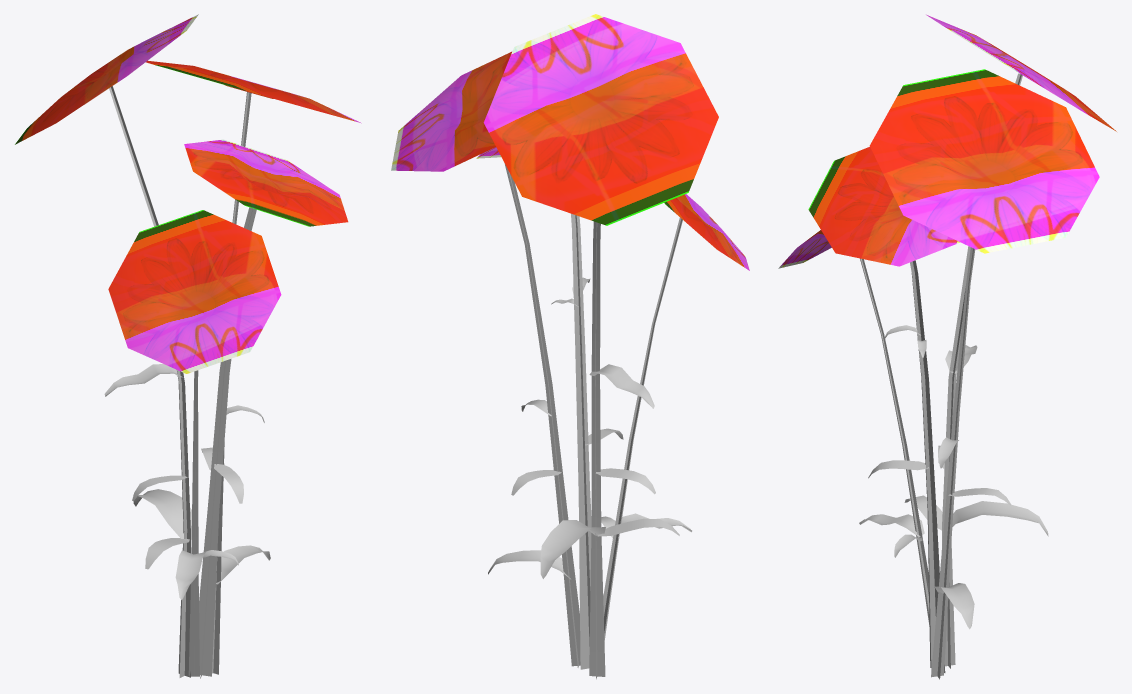
File: Daisy.obj
3 renders of one model, left to right at view 1: azimuth 30°, elevation 25°; view 2: azimuth 150°, elevation 25°; view 3: azimuth 270°, elevation 25°, orthographic. The views are drawn at different scales.
Visible parts, largest first — view 1: Daisy_Daisy_Blossom_0; view 2: Daisy_Daisy_Blossom_0; view 3: Daisy_Daisy_Blossom_0.
Boxes of the visible parts, <box> form: Daisy_Daisy_Blossom_0: <box>15,14,361,678</box>; Daisy_Daisy_Blossom_0: <box>391,14,749,679</box>; Daisy_Daisy_Blossom_0: <box>778,14,1116,679</box>.
Bounding box in the file's own units: 2.87 × 5.8 × 2.8.
